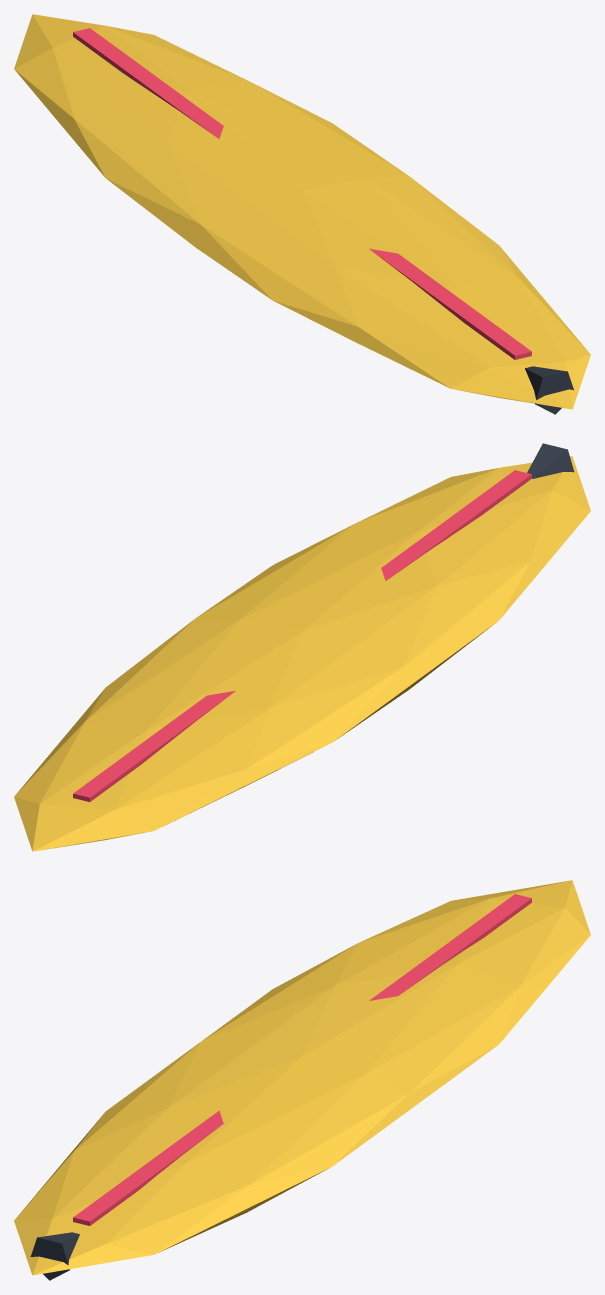
Rendered from Surfing_Surfboard.fbx.
3 renders of one model, top to bottom at view 1: azimuth 30°, elevation 25°; view 2: azimuth 150°, elevation 25°; view 3: azimuth 330°, elevation 25°, orthographic.
Parts seen in each view (by area): view 1: Surfboard; view 2: Surfboard; view 3: Surfboard.
Boxes of the visible parts, <box> form: Surfboard: <box>14,14,590,414</box>; Surfboard: <box>14,443,590,851</box>; Surfboard: <box>14,880,590,1280</box>.
Size of the model in its own units: 0.5326 by 0.1005 by 2.2.
